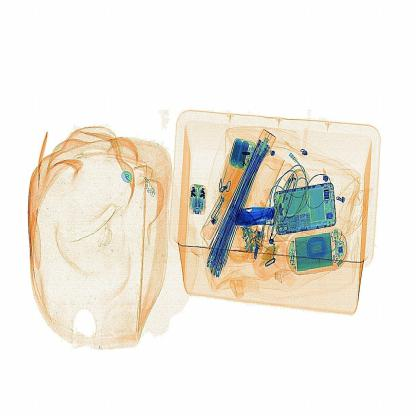knife: (233, 203, 278, 230)
